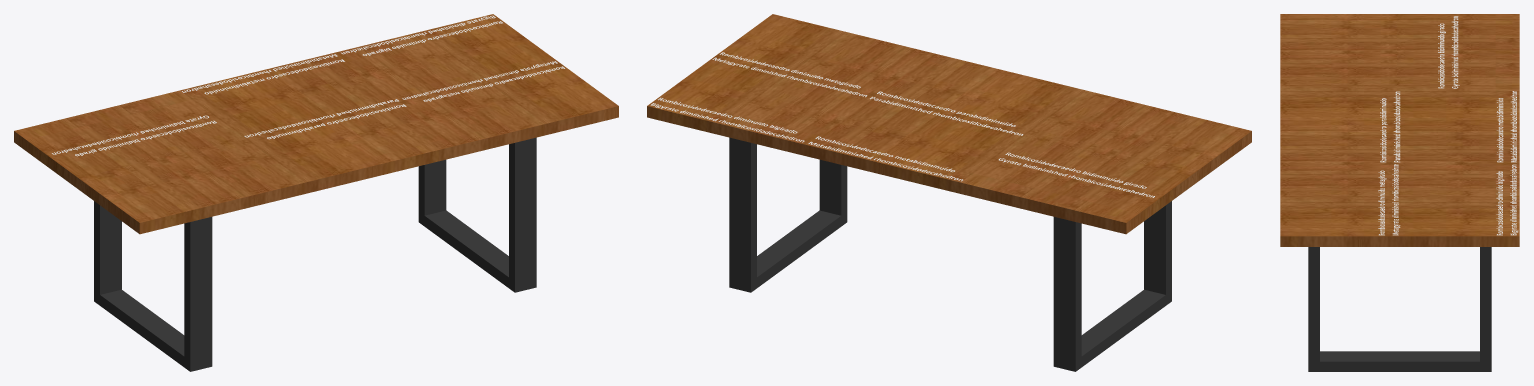
The model's file is johnson3d.glb.
3 views of the same model, side by side, from view 1: azimuth 30°, elevation 25°; view 2: azimuth 150°, elevation 25°; view 3: azimuth 270°, elevation 25° (orthographic). The views are drawn at different scales.
Visible parts, largest first — view 1: object 1, Composant#1 (×2), Rombicosidodecae#1, Rombicosidodecae#5, Rombicosidodecae#2, Rombicosidodecae#4, Rombicosidodecae#3; view 2: object 1, Composant#1 (×2), Rombicosidodecae#1, Rombicosidodecae#2, Rombicosidodecae#3, Rombicosidodecae#5, Rombicosidodecae#4; view 3: object 1, Composant#1, Rombicosidodecae#1, Rombicosidodecae#2, Rombicosidodecae#5, Rombicosidodecae#4, Rombicosidodecae#3.
Part boxes in pixels (x1,y1,x2,y2): object 1: (14, 14, 618, 234); Composant#1 (×2): (94, 137, 536, 371); Rombicosidodecae#1: (402, 61, 564, 101); Rombicosidodecae#5: (52, 115, 216, 156); Rombicosidodecae#2: (341, 15, 502, 55); Rombicosidodecae#4: (182, 54, 344, 94); Rombicosidodecae#3: (244, 99, 406, 139); object 1: (647, 14, 1251, 234); Composant#1 (×2): (729, 137, 1171, 371); Rombicosidodecae#1: (712, 52, 867, 97); Rombicosidodecae#2: (650, 97, 804, 142); Rombicosidodecae#3: (870, 91, 1023, 135); Rombicosidodecae#5: (998, 152, 1154, 197); Rombicosidodecae#4: (808, 136, 962, 181); object 1: (1280, 14, 1519, 246); Composant#1: (1308, 247, 1491, 371); Rombicosidodecae#1: (1378, 164, 1400, 235); Rombicosidodecae#2: (1496, 164, 1518, 235); Rombicosidodecae#5: (1438, 16, 1459, 88); Rombicosidodecae#4: (1496, 91, 1516, 162); Rombicosidodecae#3: (1380, 91, 1400, 162).
Size of the model in its own units: 2.2 by 0.771 by 1.
Materials: 3 (1 with a texture image).
